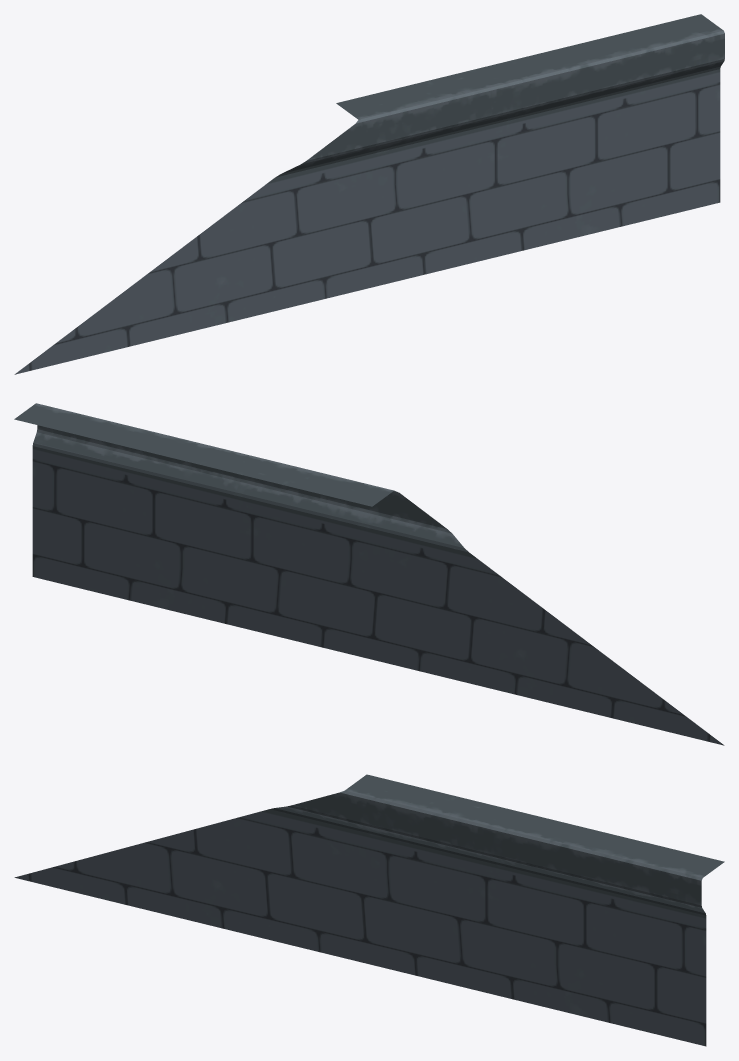
File: Skirt_StairsWall.fbx
The picture shows the model from 3 angles, top to bottom: view 1: azimuth 30°, elevation 25°; view 2: azimuth 150°, elevation 25°; view 3: azimuth 330°, elevation 25°; orthographic projection. The views are drawn at different scales.
Visible parts, largest first — view 1: Skirt_StairsWall; view 2: Skirt_StairsWall; view 3: Skirt_StairsWall.
Part boxes in pixels (x1=…): Skirt_StairsWall: x1=14, y1=14, x2=724, y2=374; Skirt_StairsWall: x1=14, y1=403, x2=724, y2=745; Skirt_StairsWall: x1=14, y1=774, x2=724, y2=1046.
Bounding box in the file's own units: 547 × 129 × 31.86.
Materials: 1 (1 with a texture image).
